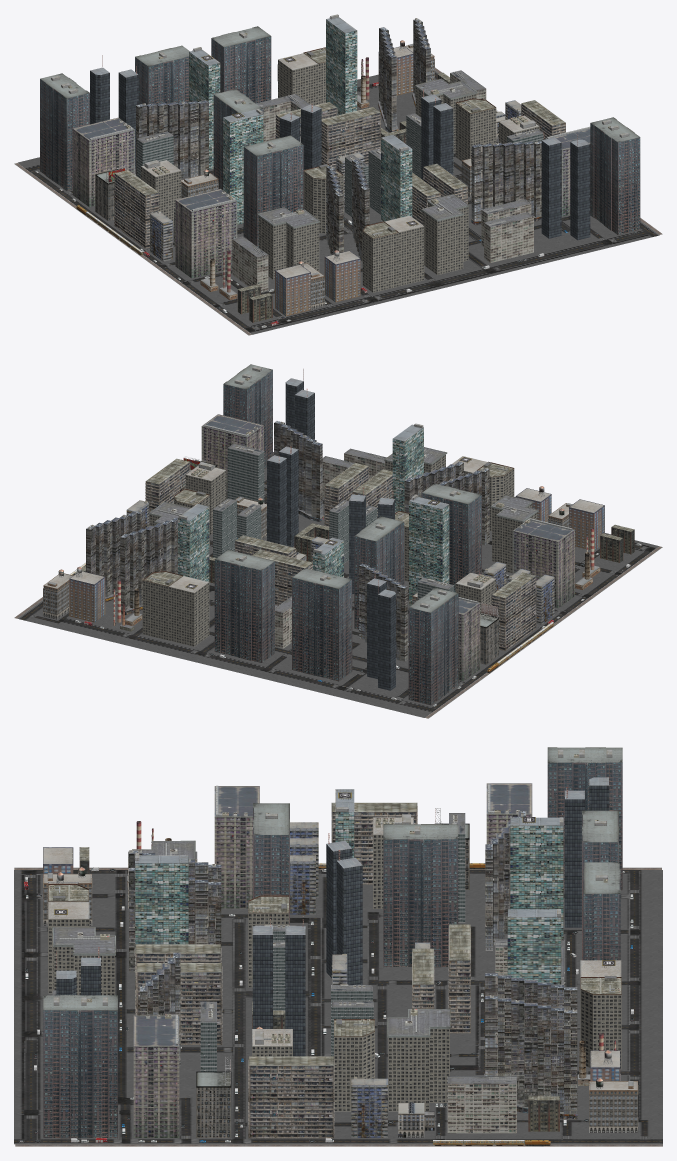
The model's file is city3.glb.
3 views of the same model, one above another, from view 1: azimuth 30°, elevation 25°; view 2: azimuth 150°, elevation 25°; view 3: azimuth 270°, elevation 25° (orthographic). The views are drawn at different scales.
Visible parts, largest first — view 1: Plane_504, Building2_8, Building2.005_447, Building12.002_173, Building3.002_463, Building2.003_272, Building12.005_400, Building3.001_278, Building2.002_209, building.018_337, building.012_219, Building1.001_200 (+50 smaller); view 2: Plane_504, Building2.002_209, Building2.004_430, Building2.003_272, Building3.002_463, Building1.002_265, Building12.001_99, Building2.005_447, Building2.001_205, Building2_8, building.007_165, Building12_104 (+45 smaller); view 3: Plane_504, Building2_8, Building2.001_205, Building12_104, Building5_51, building.001_97, Building3_14, Building1_1, Building1.003_425, Building3.002_463, Building2.003_272, Building10_132 (+49 smaller).
Part boxes in pixels (<box>): Plane_504: <box>18,71,659,334</box>; Building2_8: <box>590,117,640,234</box>; Building2.005_447: <box>243,135,303,247</box>; Building12.002_173: <box>471,140,541,220</box>; Building3.002_463: <box>175,189,237,278</box>; Building2.003_272: <box>40,73,89,190</box>; Building12.005_400: <box>136,100,208,177</box>; Building3.001_278: <box>73,117,134,207</box>; Building2.002_209: <box>211,26,271,103</box>; building.018_337: <box>257,207,320,279</box>; building.012_219: <box>421,194,469,274</box>; Building1.001_200: <box>326,17,357,115</box>; Plane_504: <box>18,452,658,717</box>; Building2.002_209: <box>214,549,274,662</box>; Building2.004_430: <box>292,568,352,681</box>; Building2.003_272: <box>408,587,458,705</box>; Building3.002_463: <box>512,520,574,608</box>; Building1.002_265: <box>409,497,449,605</box>; Building12.001_99: <box>120,517,177,610</box>; Building2.005_447: <box>421,483,481,592</box>; Building2.001_205: <box>354,516,404,629</box>; Building2_8: <box>223,364,272,468</box>; building.007_165: <box>168,576,209,646</box>; Building12_104: <box>86,509,145,597</box>; Plane_504: <box>14,870,662,1144</box>; Building2_8: <box>43,995,117,1138</box>; Building2.001_205: <box>383,824,458,967</box>; Building12_104: <box>485,996,577,1113</box>; Building5_51: <box>248,1056,334,1138</box>; building.001_97: <box>387,1009,450,1111</box>; Building3_14: <box>133,1015,179,1137</box>; Building1_1: <box>510,817,563,939</box>; Building1.003_425: <box>135,855,188,1006</box>; Building3.002_463: <box>214,786,259,908</box>; Building2.003_272: <box>547,747,622,890</box>; Building10_132: <box>447,1076,516,1133</box>.
Size of the model in its own units: 407 by 104 by 400.
Materials: 6 (6 with a texture image).
